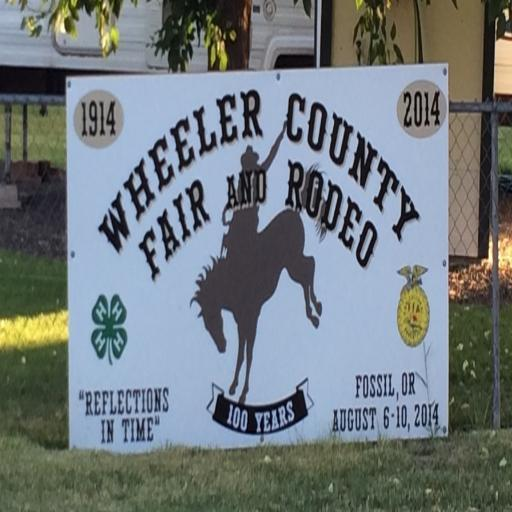horse: (190, 162, 329, 408)
